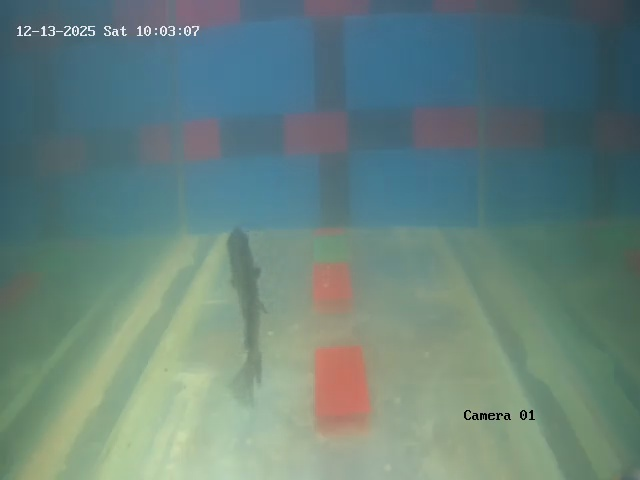fish: (223, 228, 272, 354)
